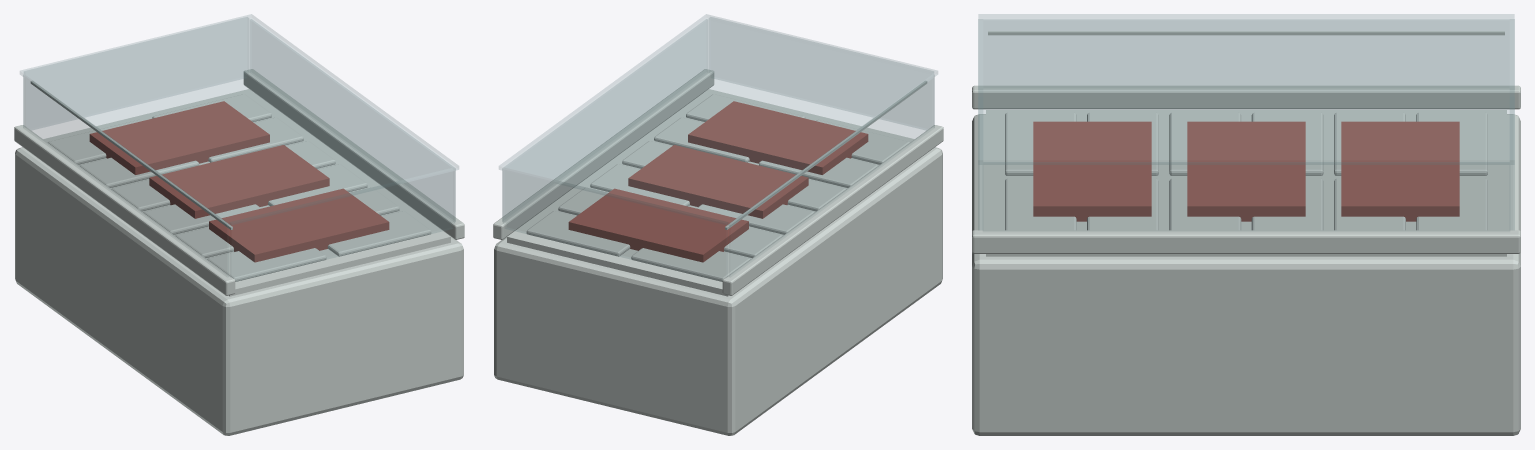
Rendered from meat-l0.glb.
3 renders of one model, left to right at view 1: azimuth 30°, elevation 25°; view 2: azimuth 150°, elevation 25°; view 3: azimuth 270°, elevation 25°, orthographic. The views are drawn at different scales.
Parts seen in each view (by area): view 1: meat-l0_fixture_Refrigerator enamel, meat-l0_fixture_Smoked glass approximation, meat-l0_fixture_Butchery tray product.001; view 2: meat-l0_fixture_Refrigerator enamel, meat-l0_fixture_Smoked glass approximation, meat-l0_fixture_Butchery tray product.001; view 3: meat-l0_fixture_Refrigerator enamel, meat-l0_fixture_Smoked glass approximation, meat-l0_fixture_Butchery tray product.001.
Part boxes in pixels (x1,y1,x2,y2): meat-l0_fixture_Refrigerator enamel: [14, 69, 464, 435]; meat-l0_fixture_Smoked glass approximation: [20, 14, 458, 281]; meat-l0_fixture_Butchery tray product.001: [89, 101, 389, 262]; meat-l0_fixture_Refrigerator enamel: [493, 69, 943, 435]; meat-l0_fixture_Smoked glass approximation: [499, 14, 937, 281]; meat-l0_fixture_Butchery tray product.001: [568, 101, 868, 262]; meat-l0_fixture_Refrigerator enamel: [972, 31, 1520, 435]; meat-l0_fixture_Smoked glass approximation: [978, 14, 1514, 230]; meat-l0_fixture_Butchery tray product.001: [1033, 121, 1459, 221].
Bounding box in the file's own units: 1.7 × 1.44 × 2.6.
